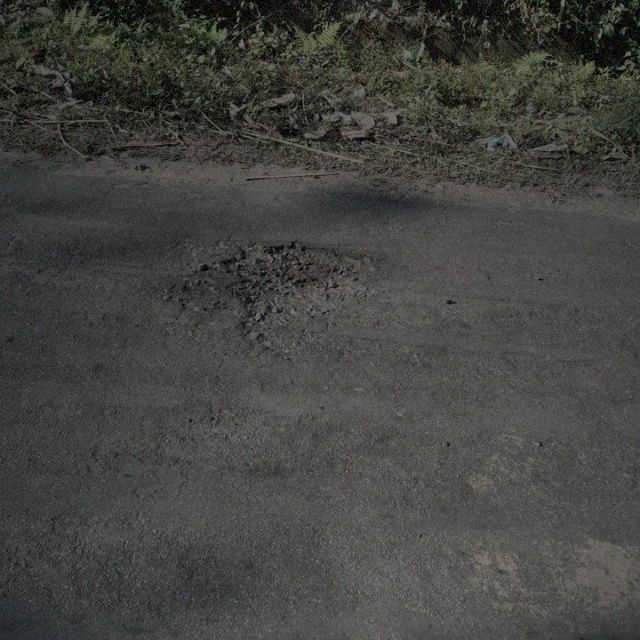pothole: (208, 241, 385, 344)
